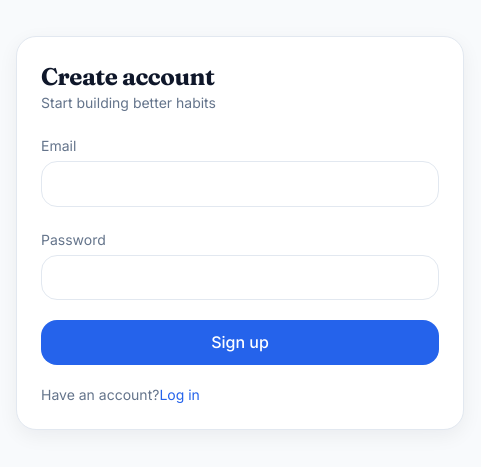
Test case: auth flow › shows an error for duplicate signup email
Type "dup@b.com" into the field with test id "auth-signup-email".
click(240, 184); type("dup@b.com")  # box [41,161,439,207]
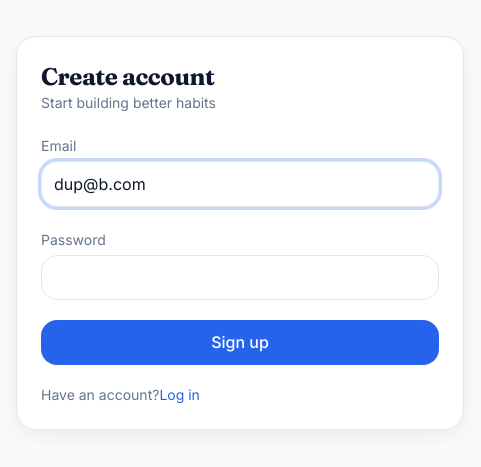
Type "pw" into the password field with test id "auth-signup-password".
click(240, 277); type("pw")  # box [41,255,439,300]
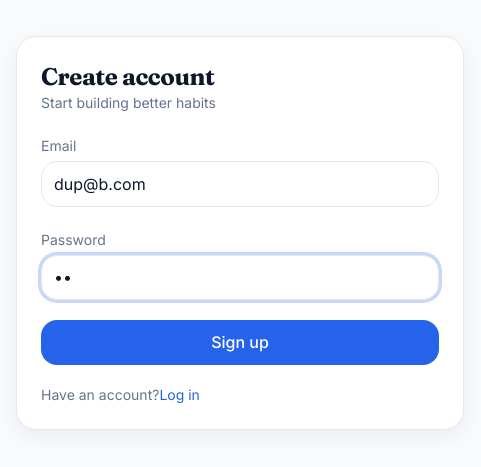
Click the button with test id "auth-signup-submit".
click(240, 342)  # box [41,320,439,365]
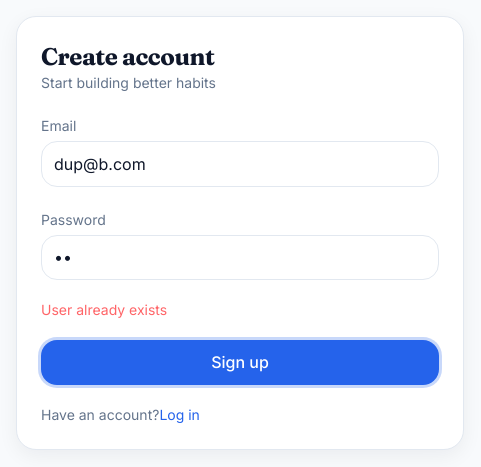
Expected: the text "User already exists" is shown, [41,301,167,318]
